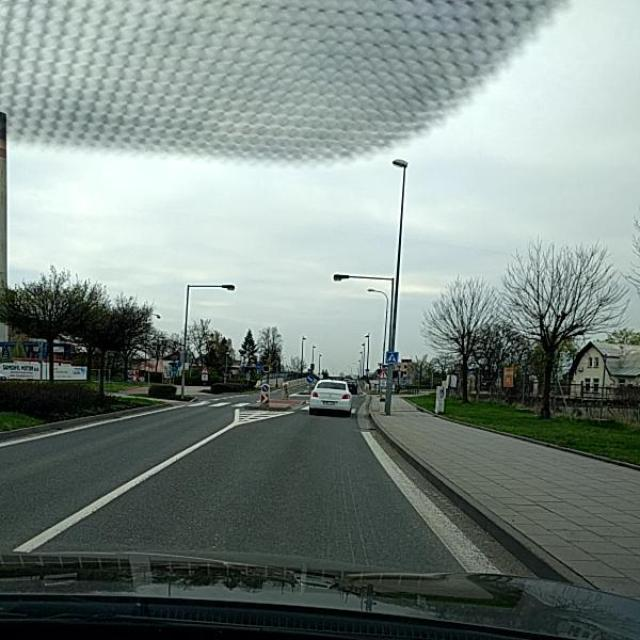Crack: (291, 418, 389, 574)
